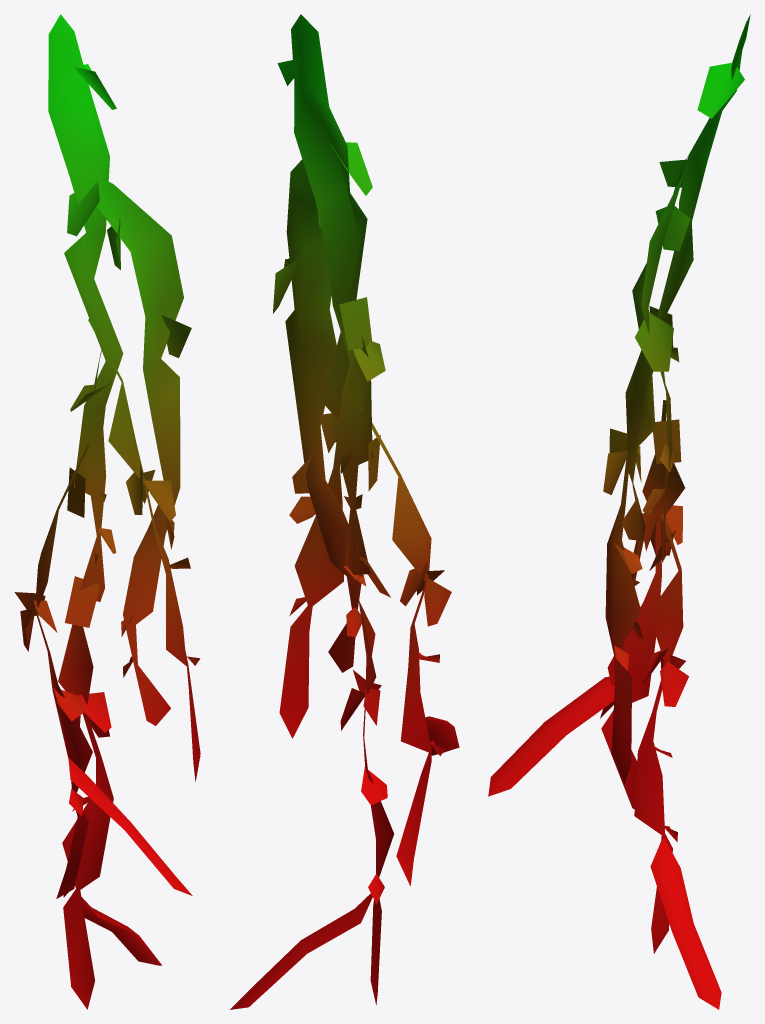
File: Var10_LOD5.fbx
The picture shows the model from 3 angles, left to right: view 1: azimuth 30°, elevation 25°; view 2: azimuth 150°, elevation 25°; view 3: azimuth 270°, elevation 25°; orthographic projection. The views are drawn at different scales.
Parts seen in each view (by area): view 1: _vvhy_Var10_LOD5; view 2: _vvhy_Var10_LOD5; view 3: _vvhy_Var10_LOD5.
Boxes of the visible parts, x1=… form: _vvhy_Var10_LOD5: x1=14, y1=14, x2=200, y2=1009; _vvhy_Var10_LOD5: x1=230, y1=14, x2=459, y2=1009; _vvhy_Var10_LOD5: x1=488, y1=14, x2=750, y2=1009.
Size of the model in its own units: 24 by 129 by 32.17.
